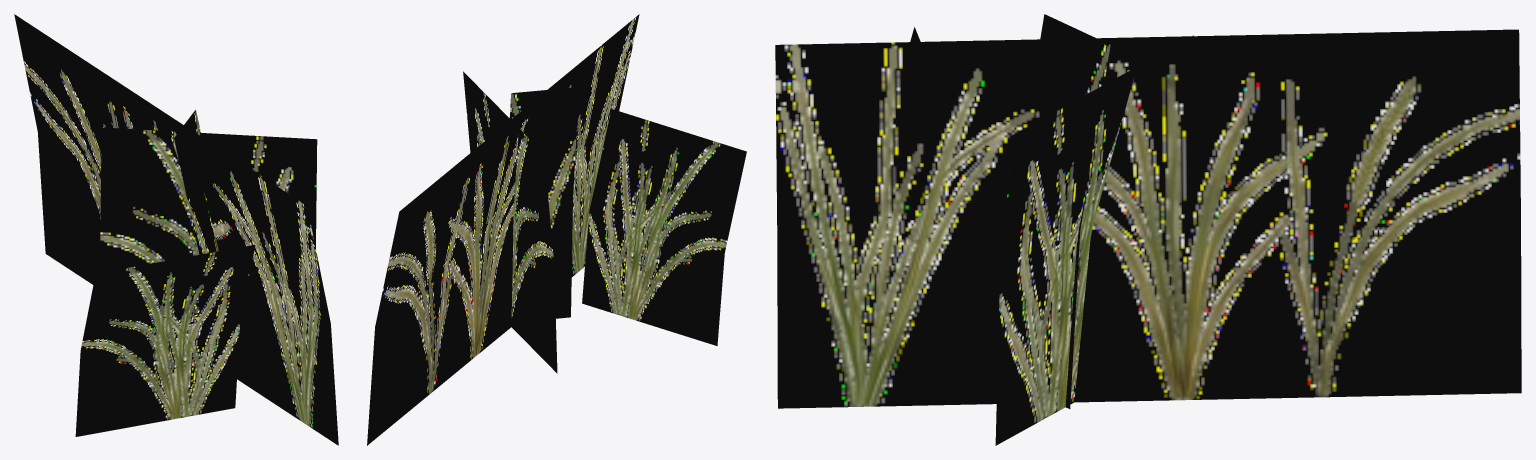
File: grass_c.glb
3 views of the same model, side by side, from view 1: azimuth 30°, elevation 25°; view 2: azimuth 150°, elevation 25°; view 3: azimuth 270°, elevation 25° (orthographic). The views are drawn at different scales.
Parts seen in each view (by area): view 1: grass_c; view 2: grass_c; view 3: grass_c.
Boxes of the visible parts, box(x1,y1,x2,y2) form: grass_c: box(14, 14, 338, 445); grass_c: box(367, 14, 746, 445); grass_c: box(775, 14, 1521, 445).
Bounding box in the file's own units: 0.4201 × 0.3962 × 0.7678.
1 material, 1 textured.
